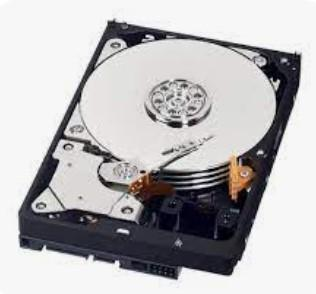internal HDD: (18, 21, 303, 280)
